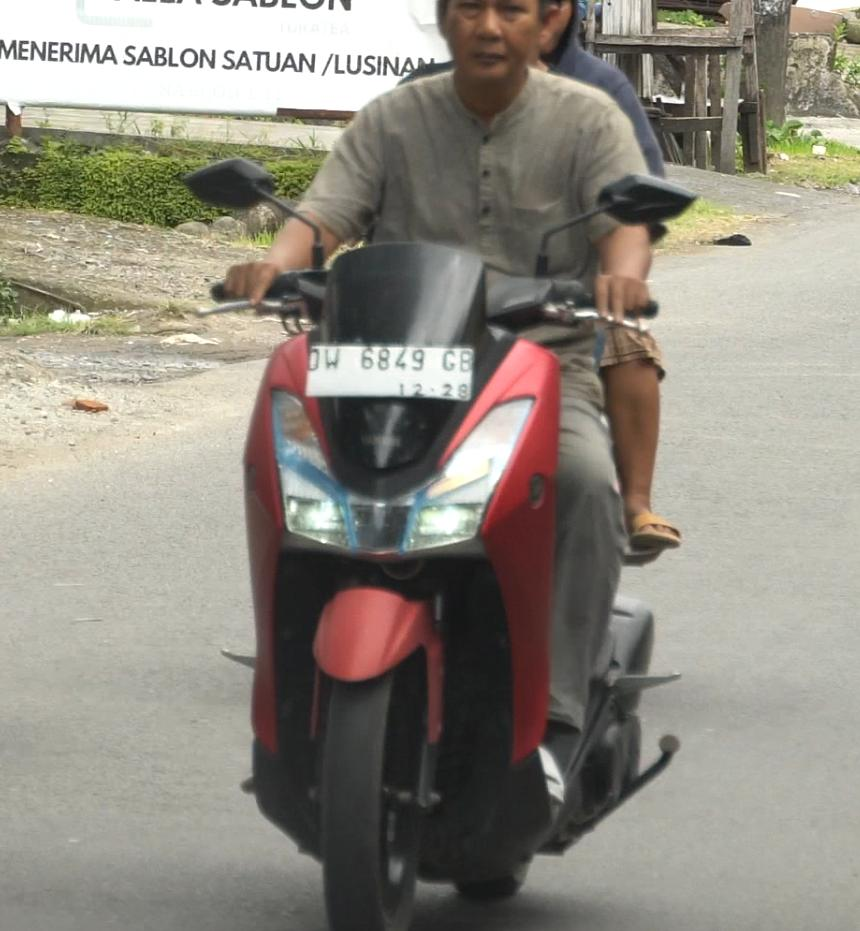number-plate: (289, 342, 489, 405)
